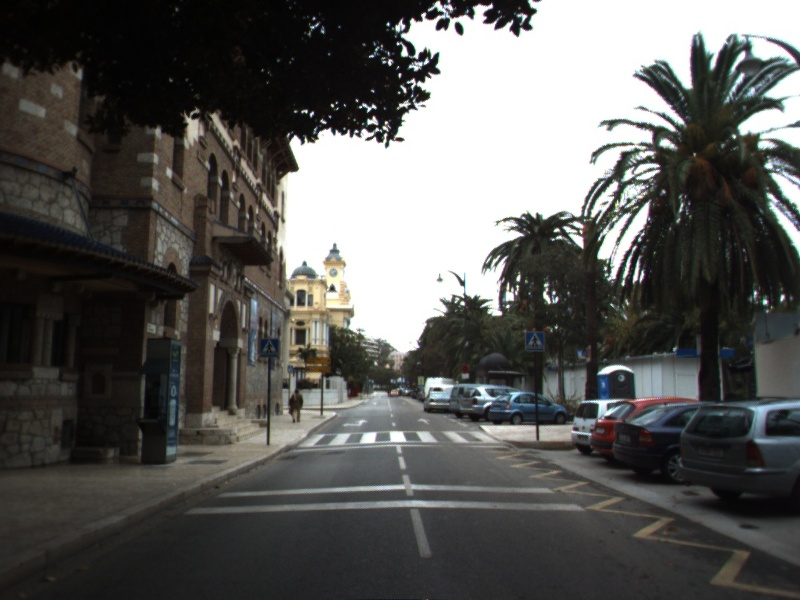STRAIGHT: (416, 416, 433, 426)
STRAIGHT_LEFT: (340, 417, 370, 429)
